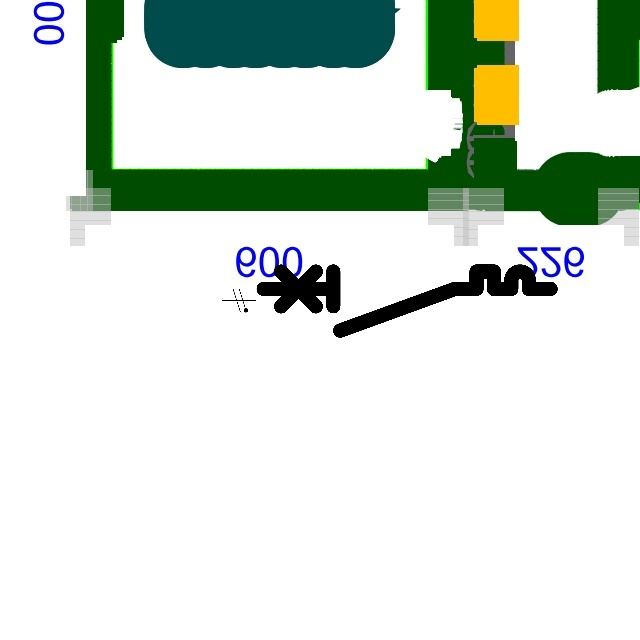interruptor_termomagnetico: (256, 264, 558, 338)
